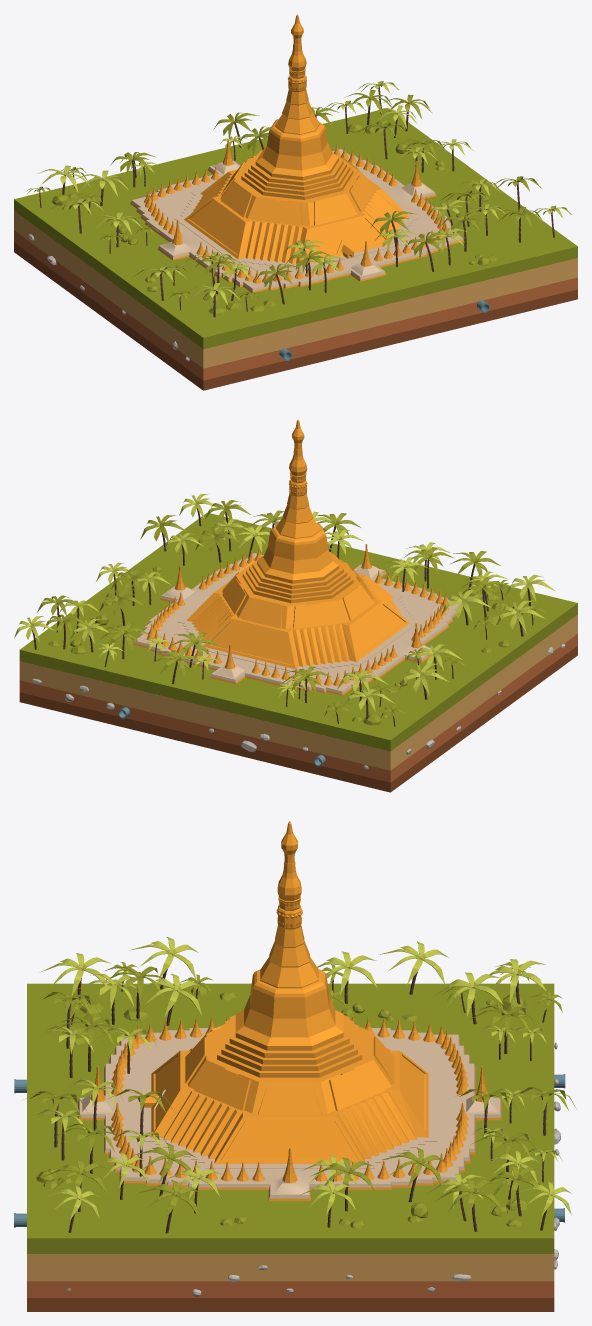
The model's file is cartoon_lowpoly_shweadagon_pagoda.glb.
3 views of the same model, one above another, from view 1: azimuth 30°, elevation 25°; view 2: azimuth 150°, elevation 25°; view 3: azimuth 270°, elevation 25° (orthographic). The views are drawn at different scales.
Visible parts, largest first — view 1: node_id712, node_id576, node_id724, node_id573, node_id720, node_id716; view 2: node_id712, node_id576, node_id724, node_id573, node_id720, node_id716, node_id728, node_id443, node_id509, node_id465; view 3: node_id712, node_id576, node_id573, node_id724, node_id720, node_id716, node_id728, node_id531, node_id509, node_id443, node_id421, node_id553 (+9 smaller).
Part boxes in pixels (left/top/right/bottom): node_id712: left=14, top=109, right=577, bottom=349; node_id576: left=130, top=14, right=463, bottom=293; node_id724: left=14, top=211, right=577, bottom=368; node_id573: left=131, top=149, right=463, bottom=291; node_id720: left=14, top=230, right=577, bottom=380; node_id716: left=14, top=242, right=577, bottom=390; node_id712: left=19, top=512, right=577, bottom=751; node_id576: left=133, top=419, right=463, bottom=695; node_id724: left=19, top=614, right=577, bottom=770; node_id573: left=133, top=553, right=460, bottom=693; node_id720: left=19, top=634, right=577, bottom=782; node_id716: left=19, top=646, right=577, bottom=792; node_id728: left=31, top=644, right=565, bottom=769; node_id443: left=495, top=600, right=545, bottom=633; node_id509: left=399, top=663, right=448, bottom=695; node_id465: left=441, top=590, right=491, bottom=621; node_id712: left=27, top=983, right=554, bottom=1253; node_id576: left=78, top=821, right=501, bottom=1200; node_id573: left=78, top=1028, right=501, bottom=1198; node_id724: left=27, top=1254, right=554, bottom=1281; node_id720: left=27, top=1281, right=554, bottom=1297; node_id716: left=27, top=1298, right=554, bottom=1311; node_id728: left=67, top=1042, right=560, bottom=1296; node_id531: left=431, top=972, right=503, bottom=1016; node_id509: left=378, top=941, right=448, bottom=984; node_id443: left=130, top=937, right=198, bottom=979; node_id421: left=39, top=953, right=111, bottom=996; node_id553: left=488, top=959, right=546, bottom=1003.
Size of the model in its own units: 0.4912 by 0.3027 by 0.4249.
Materials: 141 (141 with a texture image).
